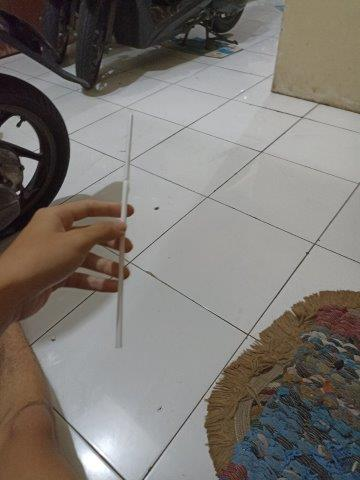sedotan: (116, 114, 133, 345)
